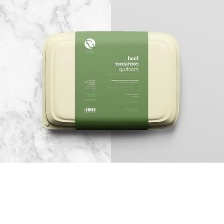plastic_box: (35, 23, 189, 138)
